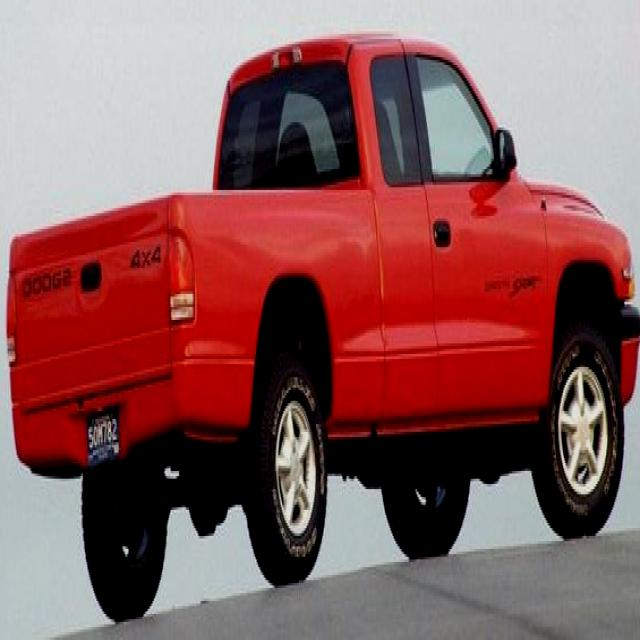CMT: (16, 30, 634, 595)
